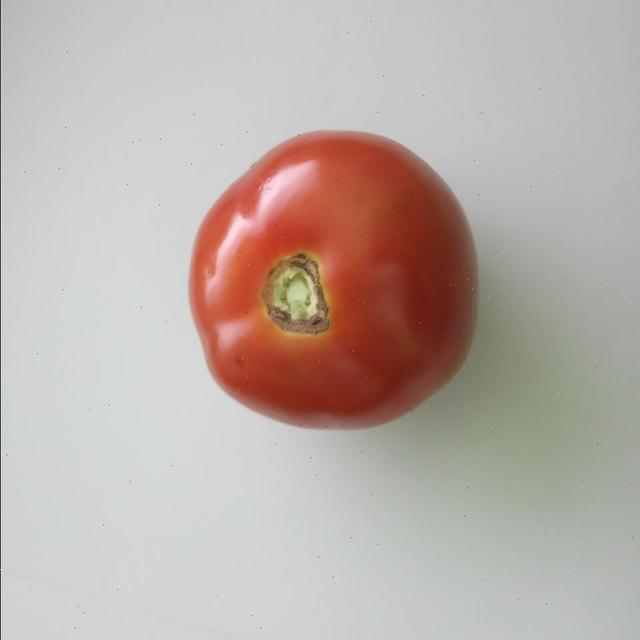Healthy Fruit: (119, 70, 326, 308)
